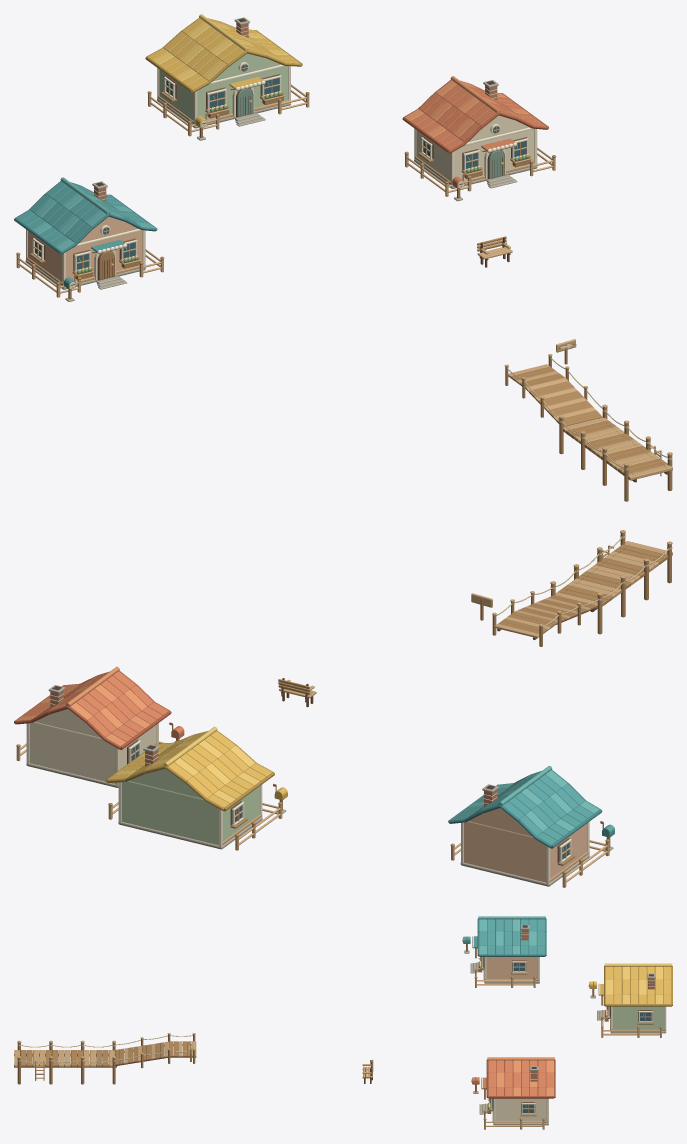
The model's file is SM_IslandVillage.fbx.
3 renders of one model, top to bottom at view 1: azimuth 30°, elevation 25°; view 2: azimuth 150°, elevation 25°; view 3: azimuth 270°, elevation 25°, orthographic. The views are drawn at different scales.
Parts seen in each view (by area): view 1: SM_IslandVillage; view 2: SM_IslandVillage; view 3: SM_IslandVillage.
Part boxes in pixels (box(x1,y1,x2,y2)): SM_IslandVillage: box(14, 14, 672, 501); SM_IslandVillage: box(14, 530, 672, 887); SM_IslandVillage: box(14, 916, 672, 1129).
Size of the model in its own units: 4719 by 7302 by 1374.
